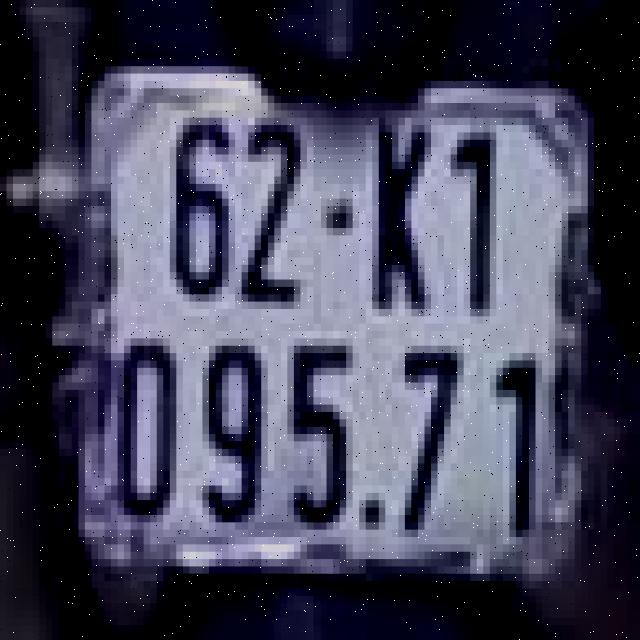0: (114, 331, 186, 530)
1: (448, 114, 520, 327), (486, 331, 546, 544)
2: (235, 103, 314, 316)
5: (281, 331, 366, 537)
6: (157, 103, 235, 309)
7: (392, 338, 470, 537)
9: (202, 334, 268, 518)
K: (359, 118, 438, 324)
